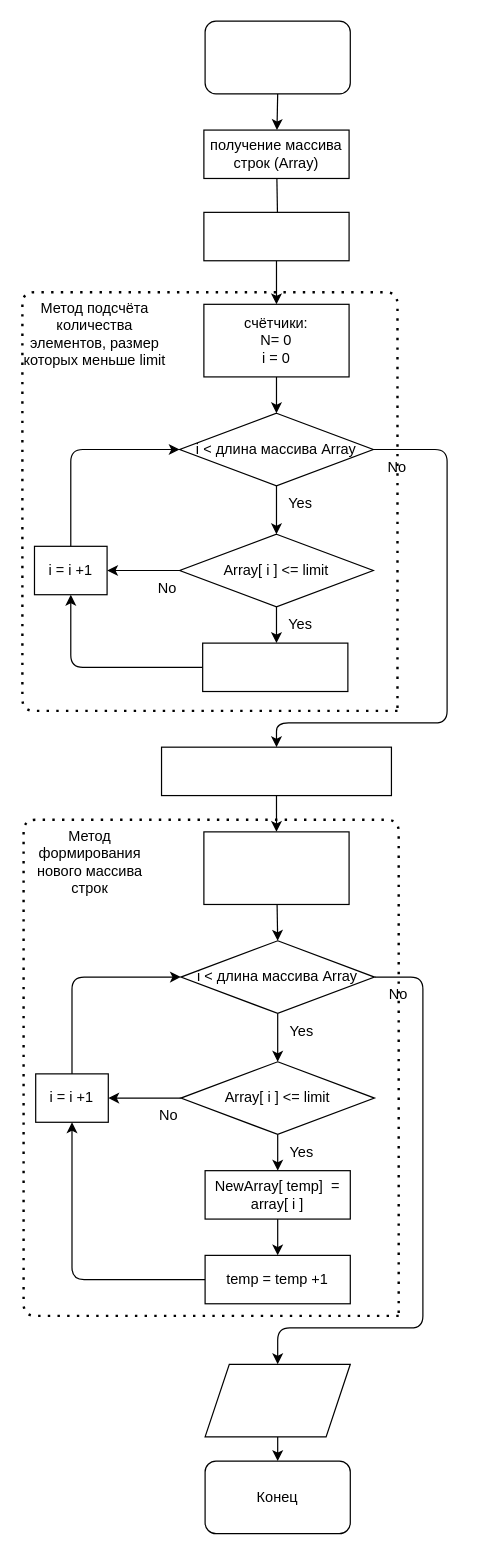
Some shapes in this 478 by 1555 pixel diagram are drawn without their labels. The box of each missing label's shape, as (x1, y1, x2, y2) in pixels:
limit = 3: (203, 211, 349, 261)
N = N +1: (201, 642, 348, 692)
NewArray: (204, 1363, 350, 1437)
инициализация нового массива(NewArray), размером N: (160, 746, 391, 796)
Начало: (204, 20, 350, 94)
счётчики: temp = 0 i = 0: (203, 831, 349, 904)
